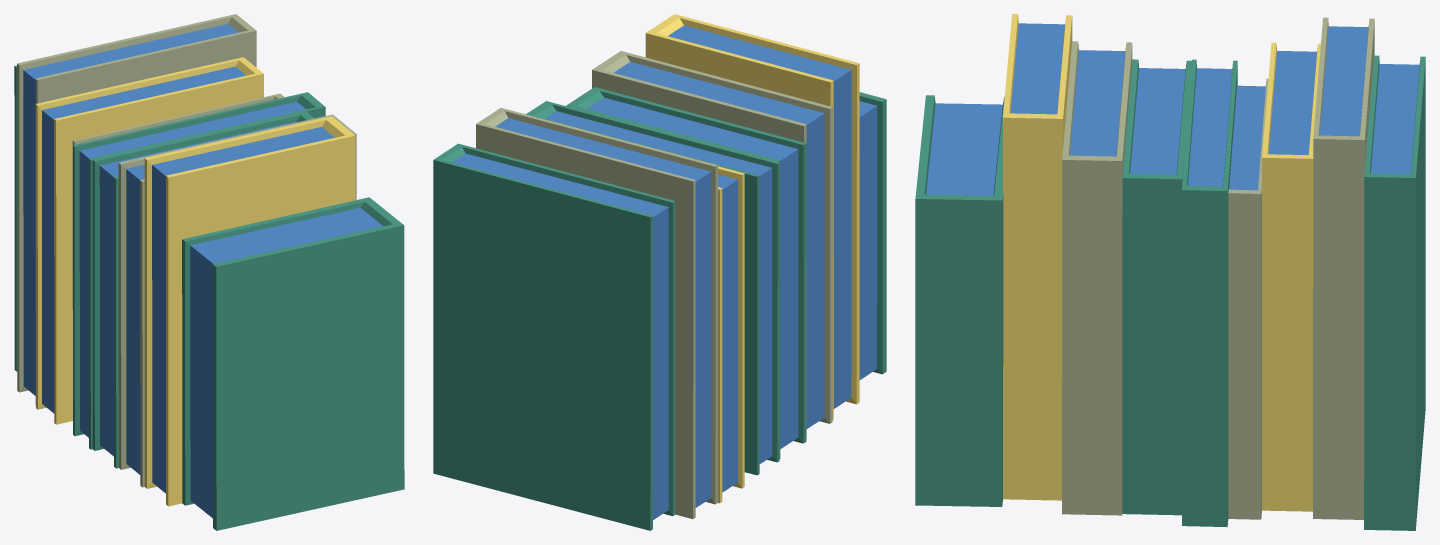
Rendered from Bedroom3_Books8.fbx.
The picture shows the model from 3 angles, left to right: view 1: azimuth 30°, elevation 25°; view 2: azimuth 150°, elevation 25°; view 3: azimuth 270°, elevation 25°; orthographic projection. The views are drawn at different scales.
Visible parts, largest first — view 1: Bedroom3_Books8; view 2: Bedroom3_Books8; view 3: Bedroom3_Books8.
Part boxes in pixels (x1,y1,x2,y2): Bedroom3_Books8: (14, 14, 404, 530); Bedroom3_Books8: (433, 14, 886, 530); Bedroom3_Books8: (915, 14, 1425, 530).
Size of the model in its own units: 33.26 by 43.6 by 52.83.
